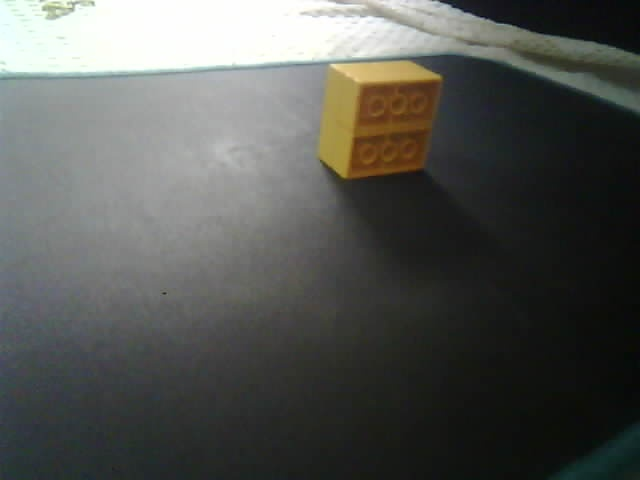lego: (315, 59, 443, 180)
